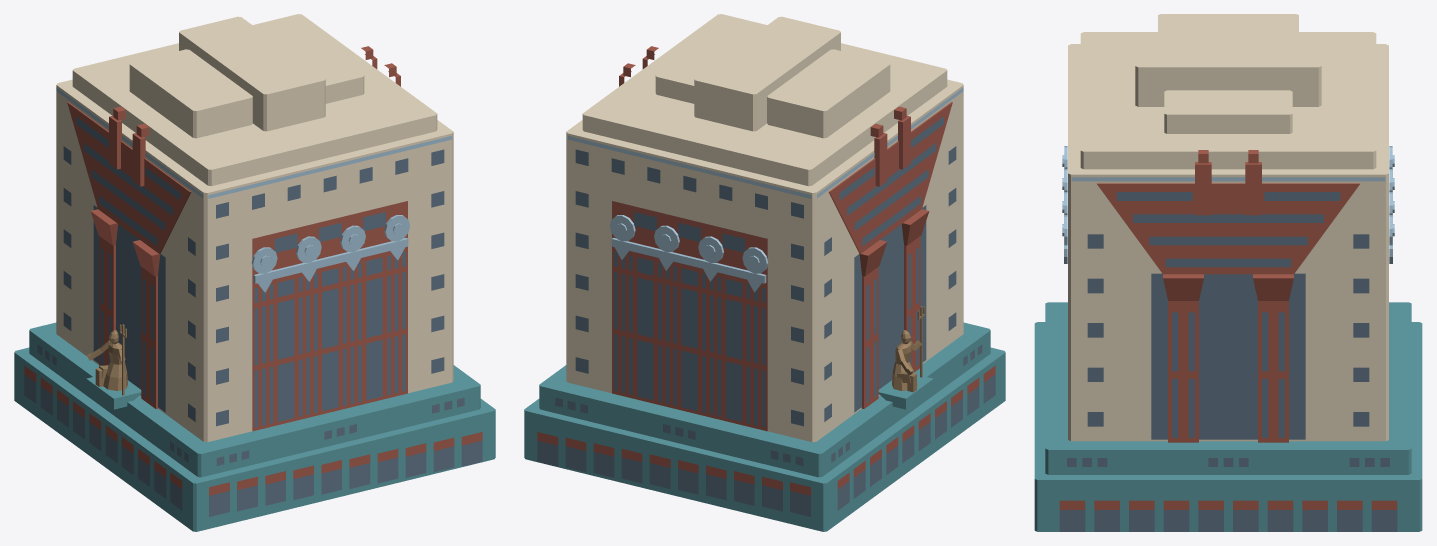
The model's file is pdx-portland-building.glb.
The picture shows the model from 3 angles, left to right: view 1: azimuth 30°, elevation 25°; view 2: azimuth 150°, elevation 25°; view 3: azimuth 270°, elevation 25°; orthographic projection. The views are drawn at different scales.
Parts seen in each view (by area): view 1: The Portland Building; view 2: The Portland Building; view 3: The Portland Building.
Boxes of the visible parts, x1=… form: The Portland Building: x1=14, y1=14, x2=495, y2=531; The Portland Building: x1=524, y1=14, x2=1005, y2=531; The Portland Building: x1=1034, y1=14, x2=1422, y2=531.
Bounding box in the file's own units: 59.53 × 68.8 × 60.5.
